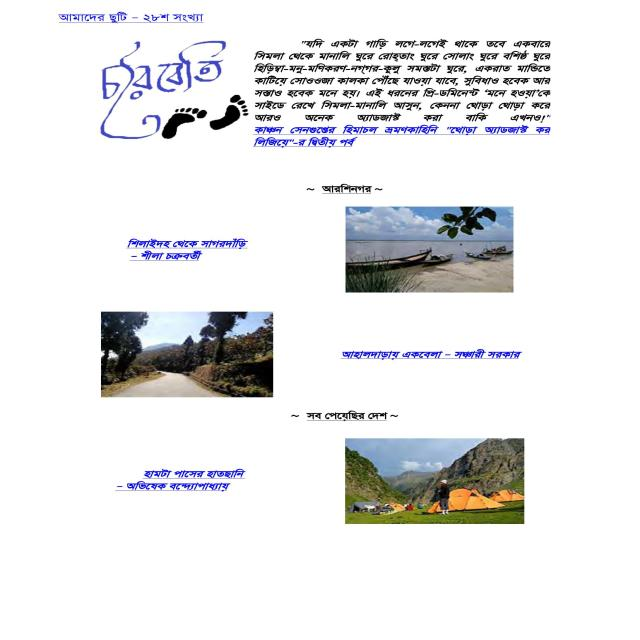caption: (114, 467, 246, 492), (126, 237, 254, 262), (337, 348, 531, 363)
image: (345, 438, 525, 524), (101, 311, 274, 398), (345, 206, 514, 293)
paragraph: (251, 38, 554, 148)
text: (290, 409, 402, 420), (313, 184, 387, 196)
title: (77, 37, 249, 145), (58, 11, 204, 24)
